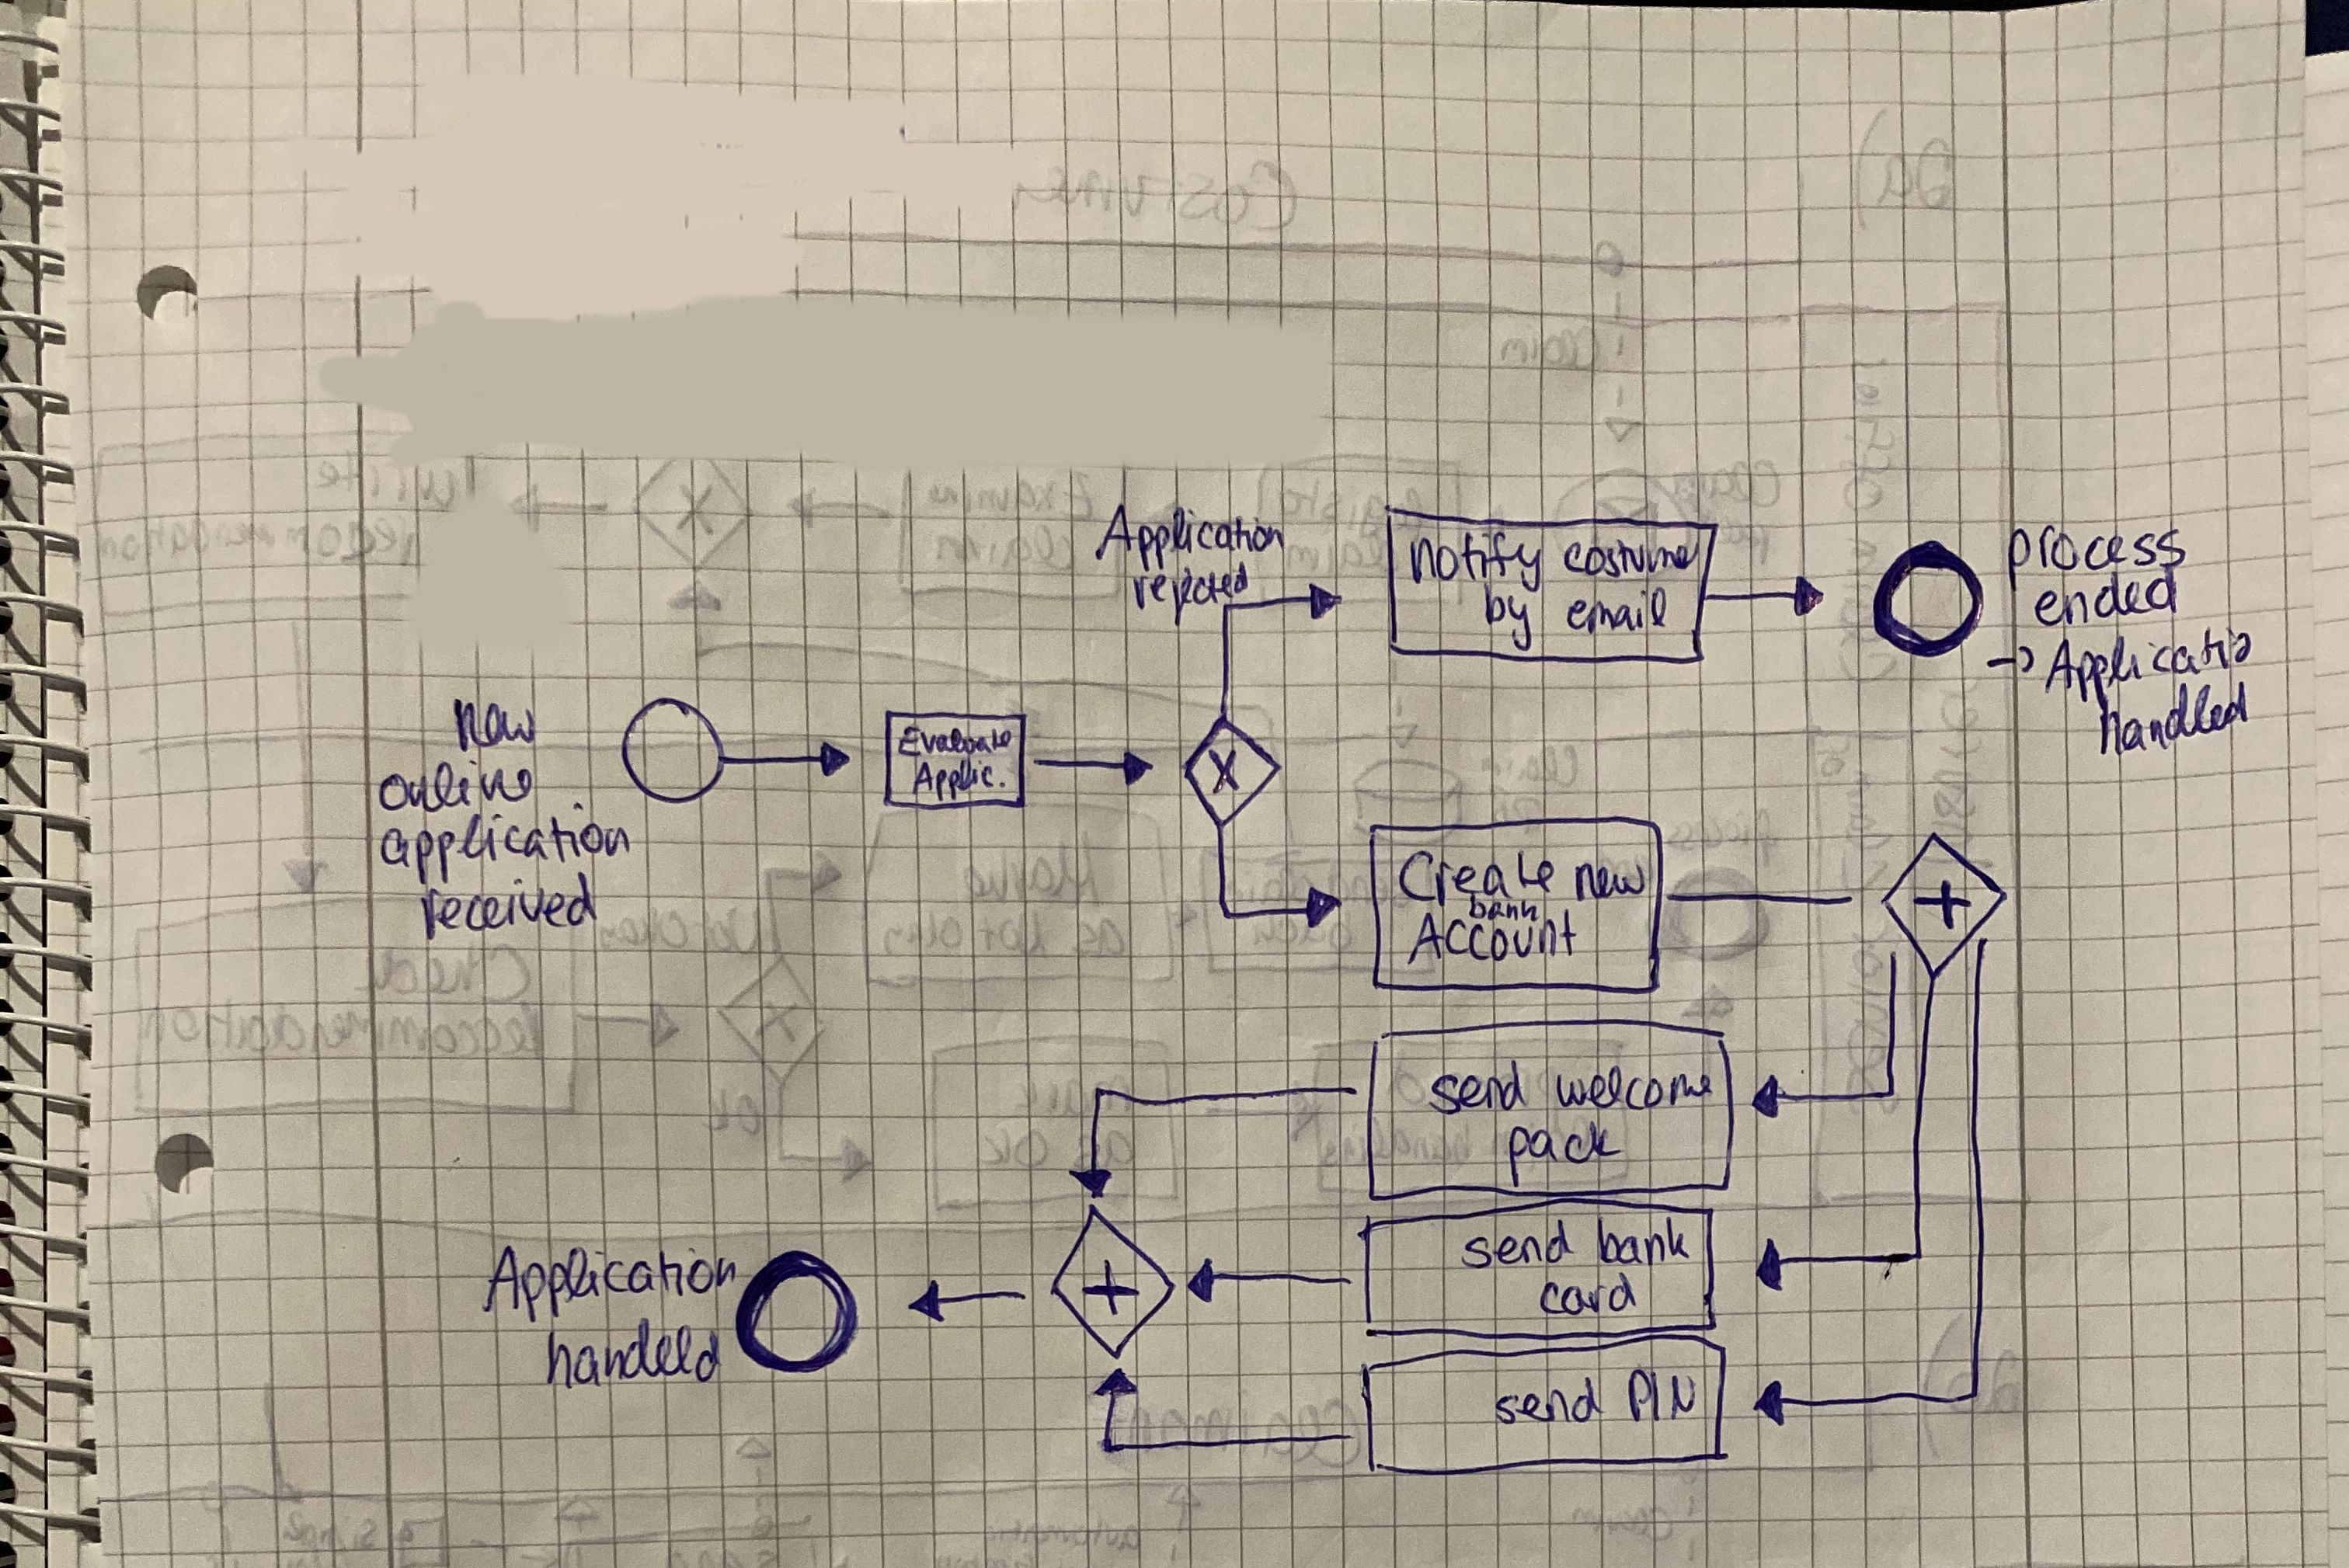Account: (1409, 913, 1575, 968)
Applic.: (912, 758, 1008, 801)
Applicatio: (2030, 637, 2263, 707)
Application: (483, 1237, 742, 1327), (1089, 499, 1295, 567)
Create: (1395, 849, 1561, 903)
Evaluate: (894, 721, 1020, 759)
PIN: (1624, 1358, 1700, 1428)
application: (378, 810, 639, 891)
bank: (1596, 1218, 1694, 1267), (1467, 894, 1539, 924)
by: (1479, 583, 1553, 651)
card: (1537, 1274, 1638, 1319)
costume: (1558, 530, 1708, 586)
email: (1561, 585, 1672, 637)
ended: (2030, 567, 2186, 635)
handeld: (541, 1318, 725, 1393)
handled: (2083, 696, 2253, 772)
new: (452, 695, 539, 754), (1570, 852, 1645, 905)
notify: (1407, 530, 1553, 590)
online: (375, 754, 548, 812)
pack: (1504, 1118, 1619, 1187)
process: (1990, 525, 2186, 588)
received: (411, 877, 600, 945)
rejected: (1125, 558, 1259, 621)
send: (1486, 1374, 1614, 1430), (1449, 1234, 1575, 1288), (1427, 1060, 1540, 1113)
welcome: (1551, 1060, 1717, 1111)
